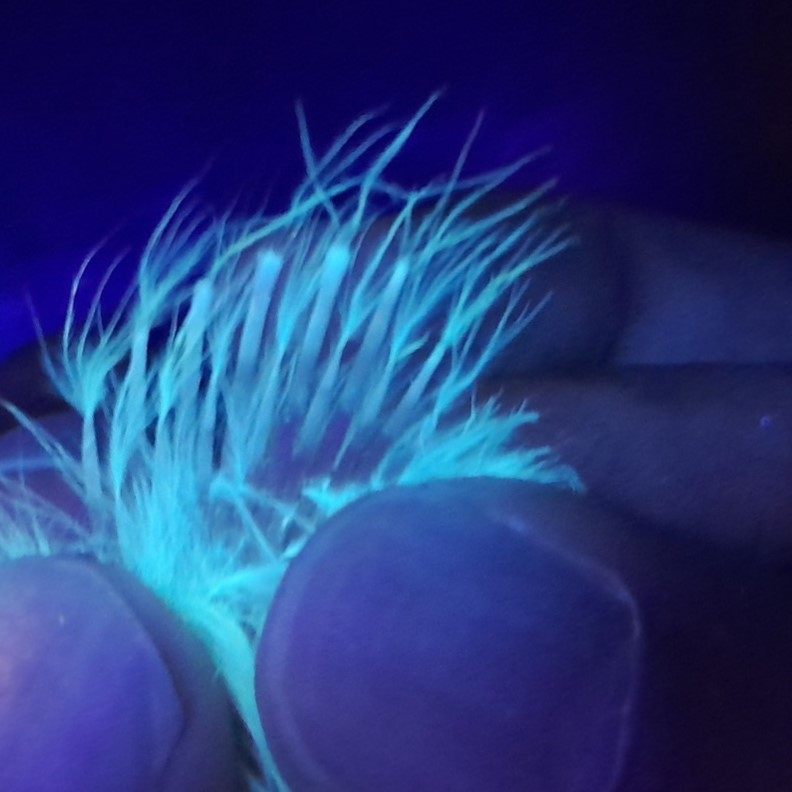male: (73, 240, 475, 583)
